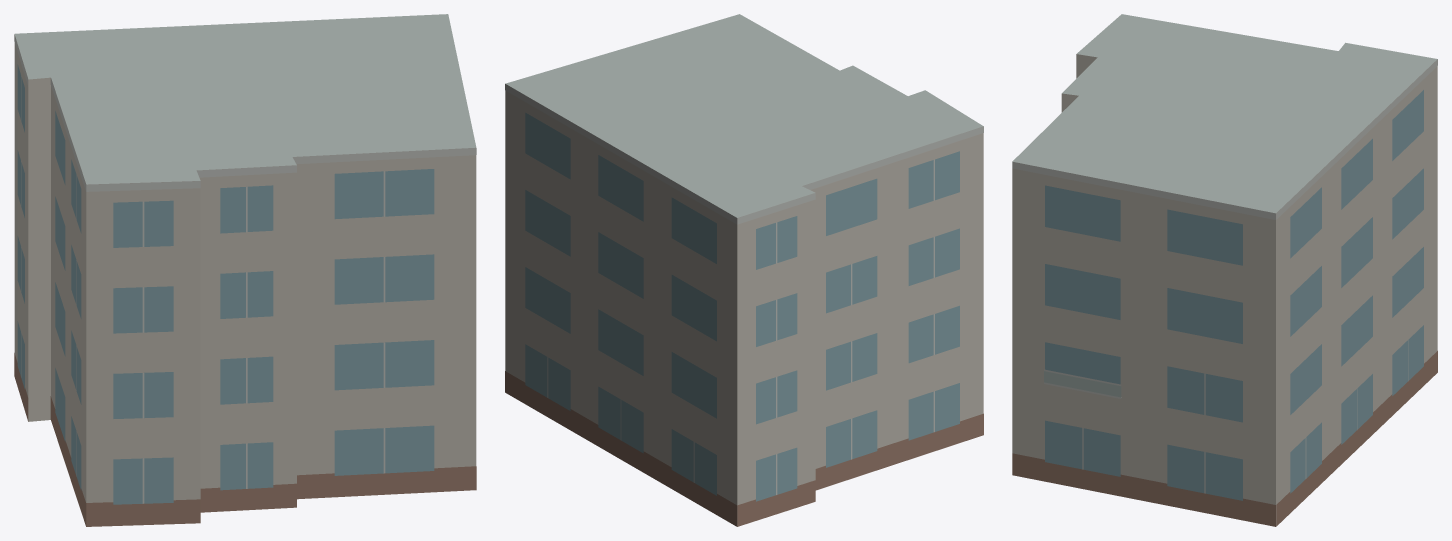
The model's file is survey-upis-32780466.glb.
3 renders of one model, left to right at view 1: azimuth 30°, elevation 25°; view 2: azimuth 150°, elevation 25°; view 3: azimuth 270°, elevation 25°, orthographic. The views are drawn at different scales.
Visible parts, largest first — view 1: survey-upis-32780466.tmp; view 2: survey-upis-32780466.tmp; view 3: survey-upis-32780466.tmp.
Part boxes in pixels (left/top/right/bottom): survey-upis-32780466.tmp: left=14, top=14, right=476, bottom=526; survey-upis-32780466.tmp: left=505, top=14, right=983, bottom=526; survey-upis-32780466.tmp: left=1012, top=14, right=1437, bottom=526.
Size of the model in its own units: 15.42 by 11.3 by 13.91.
